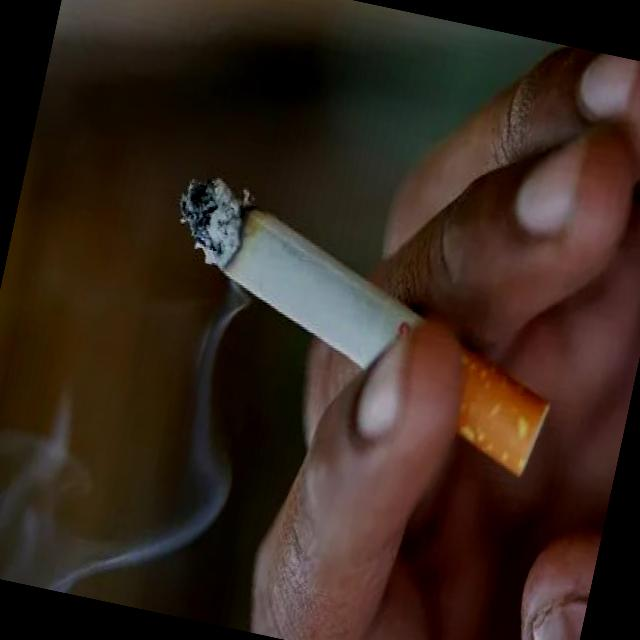cigarette: (134, 166, 588, 487)
